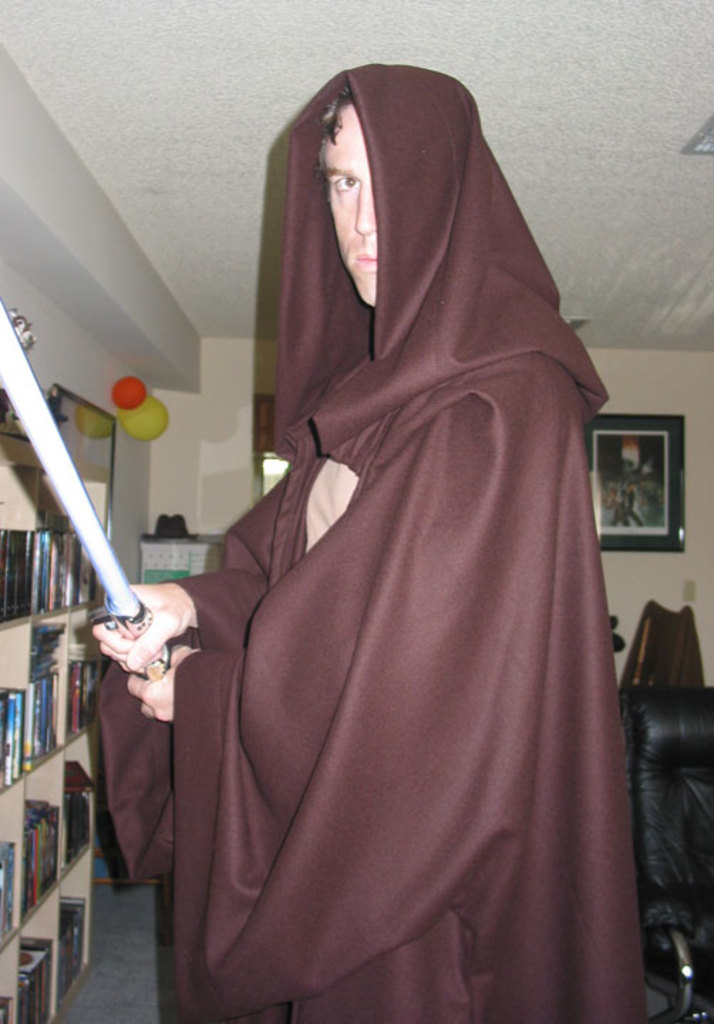Person: (91, 64, 647, 1024)
